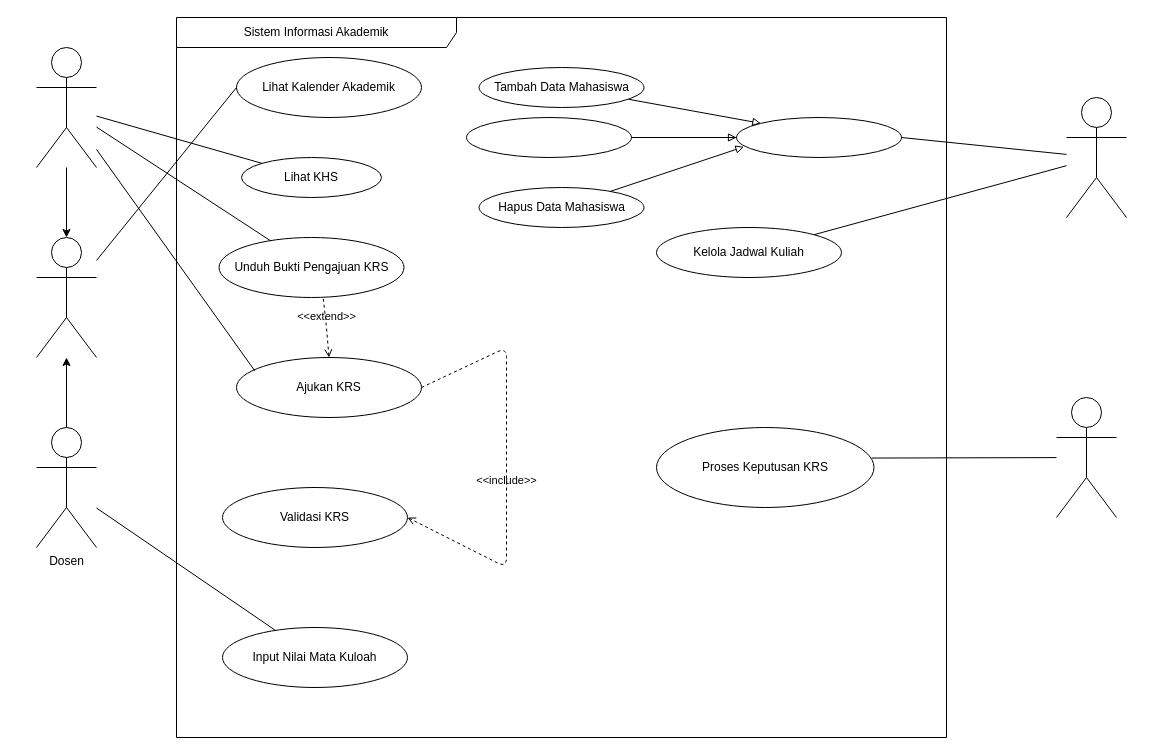
This 1158x755 diagram has some shape labels left out. The centre of each missing label's shape, as x and y in pixels:
"Admin Akademik" belongs at (1096,157).
"Civitas Akademika" belongs at (66,297).
"Dosen Wali" belongs at (1086,457).
"Kelola Data Mahasiswa" belongs at (819,137).
"Mahasiswa" belongs at (66,107).
"Ubah Data Mahasiswa" belongs at (549,137).
